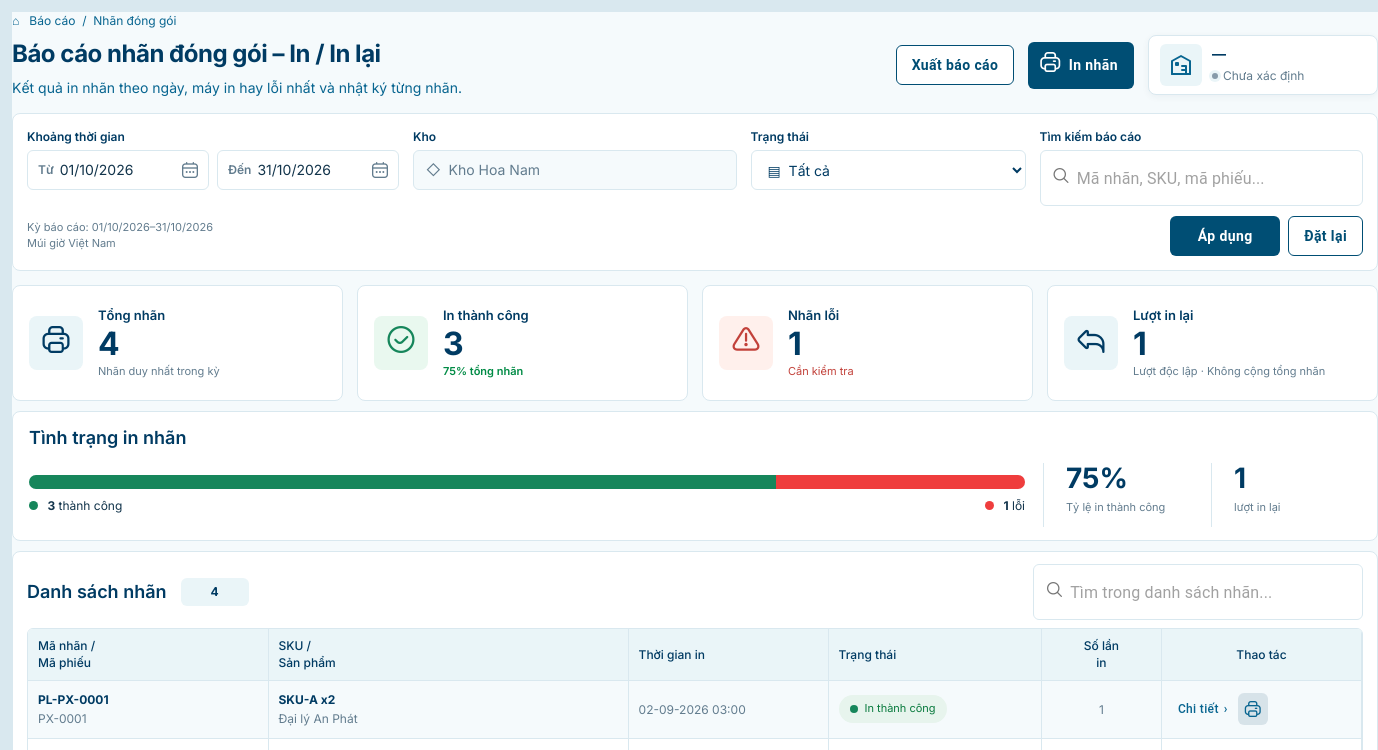
Test: RPT-05 · Nhãn đóng gói In / In lại › lọc theo kết quả in và khôi phục đầy đủ dòng
The image size is (1378, 750).
Select "Lỗi in" in the dropdown named "Trạng thái" at (888, 170), box left=750, top=150, right=1026, bottom=190
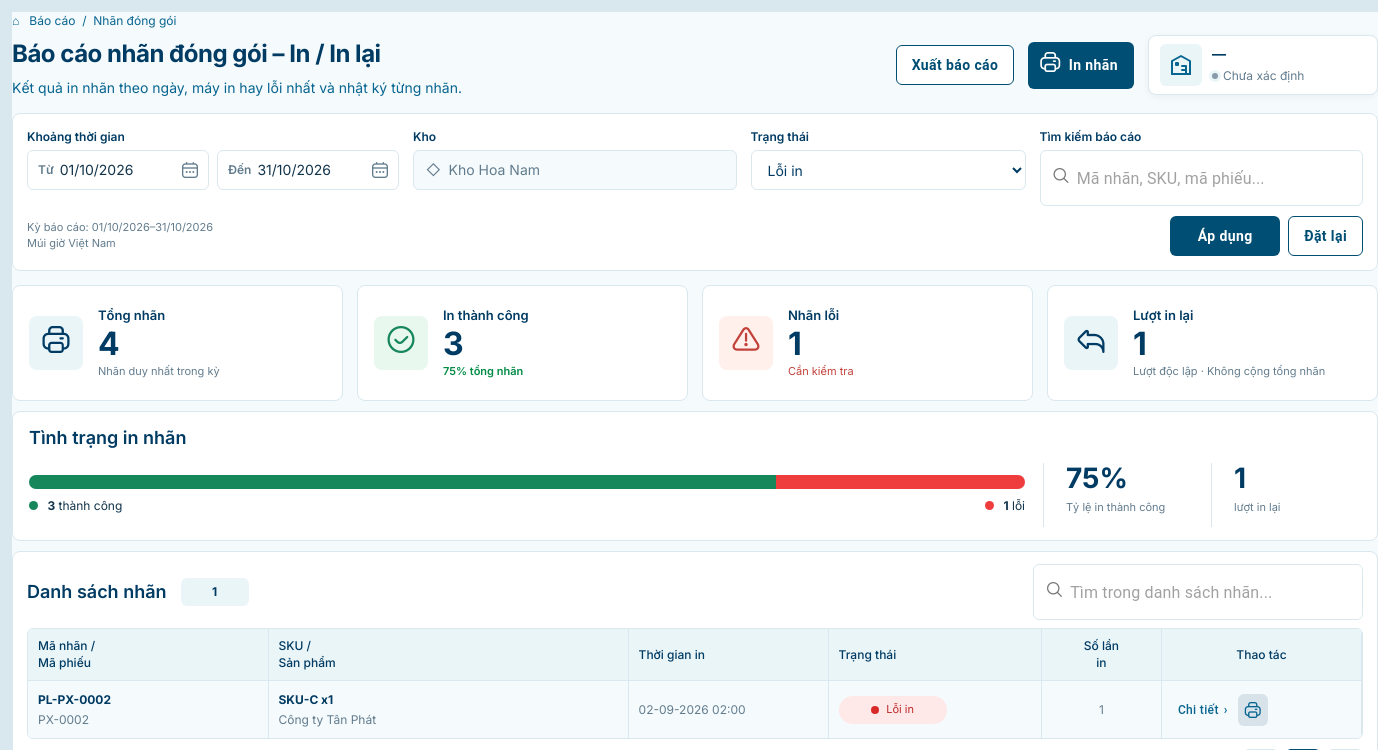
Expected: the text "Lỗi in" is shown, left=839, top=696, right=947, bottom=724
Expected: the number of rows is 2, left=28, top=629, right=1362, bottom=680; left=28, top=680, right=1362, bottom=738
Select "▤ Tất cả" in the dropdown named "Trạng thái" at (888, 170), box left=750, top=150, right=1026, bottom=190
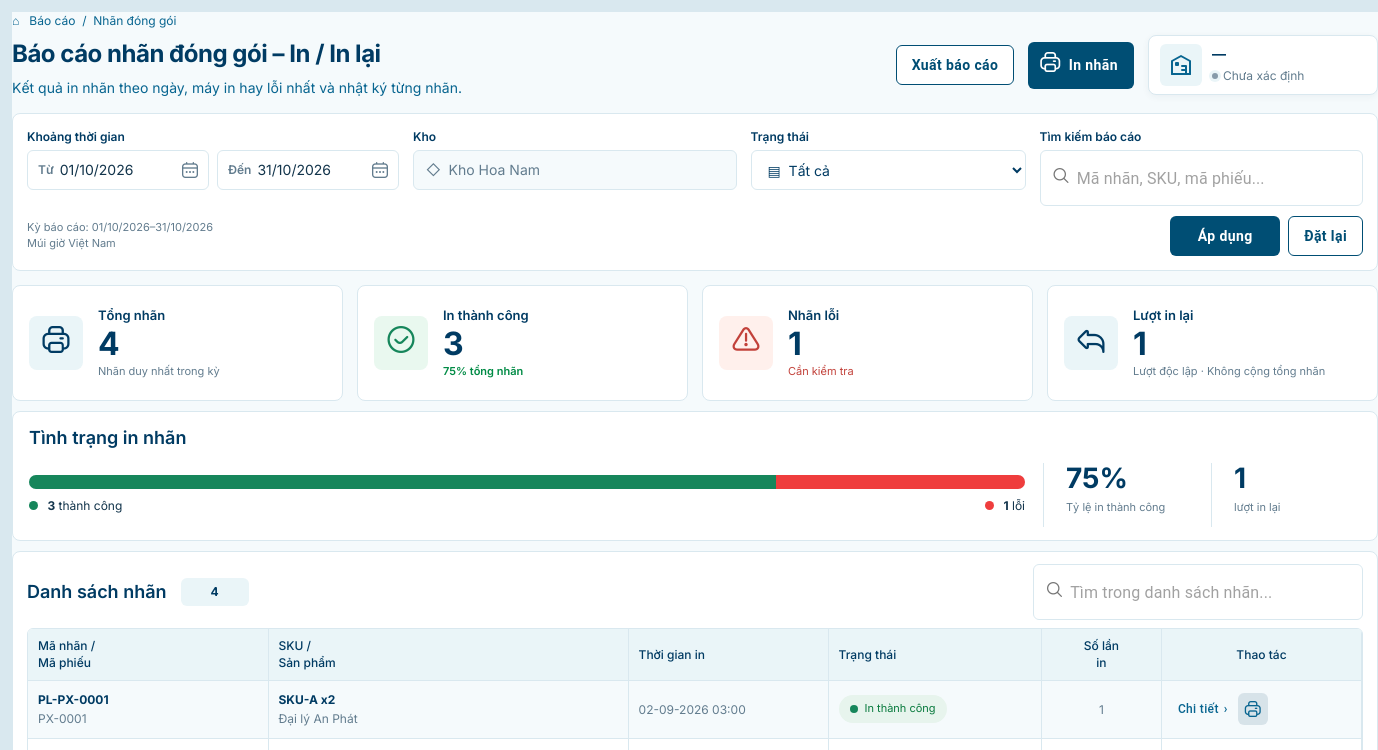
Expected: the number of rows is 5
